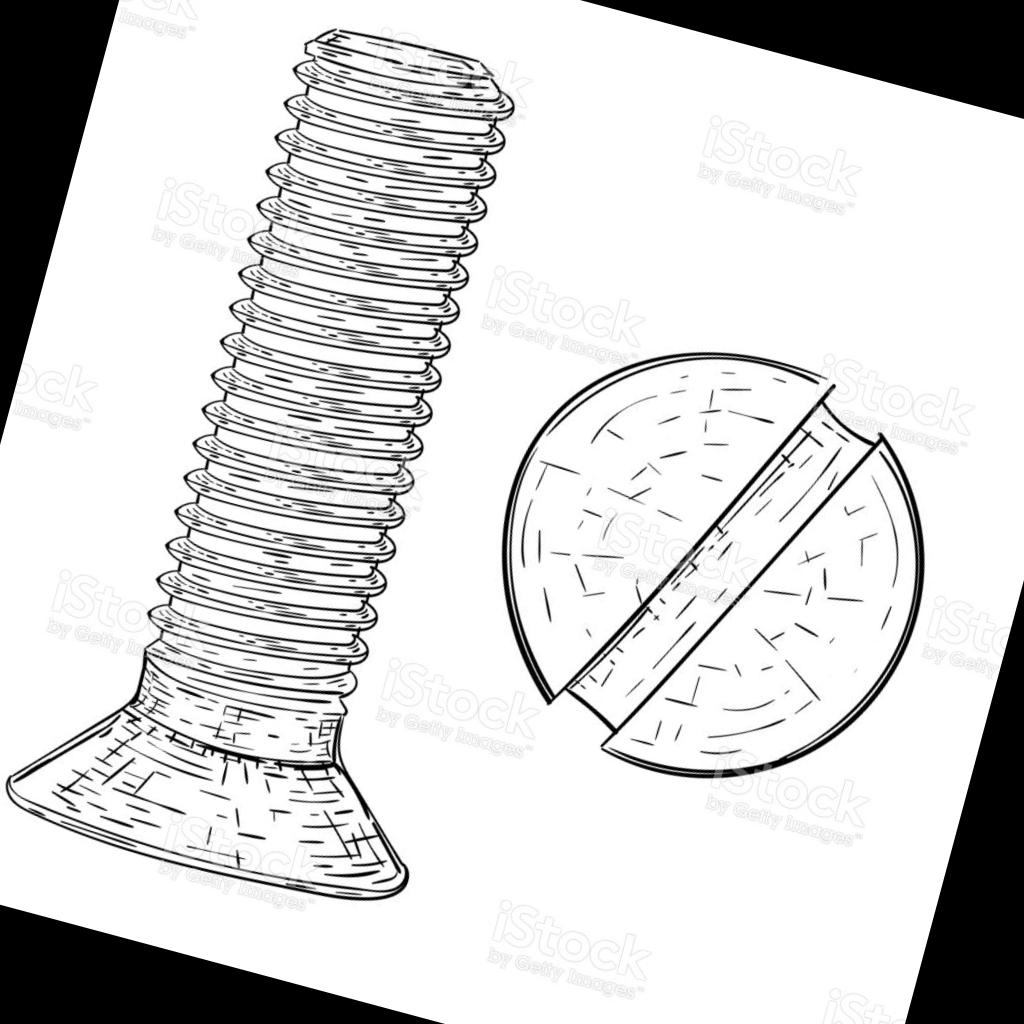screw: (454, 312, 962, 818)
